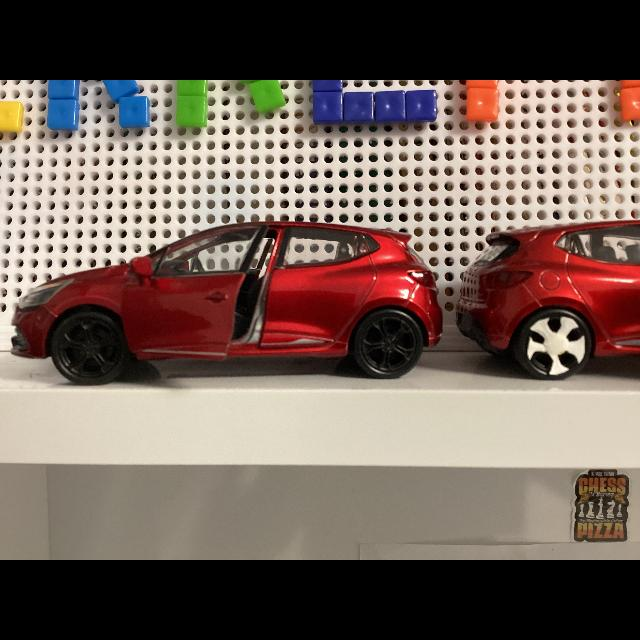Dogru_Jant: (62, 321, 116, 374), (364, 320, 412, 370)
Yanlis_Jant: (526, 314, 586, 376)
